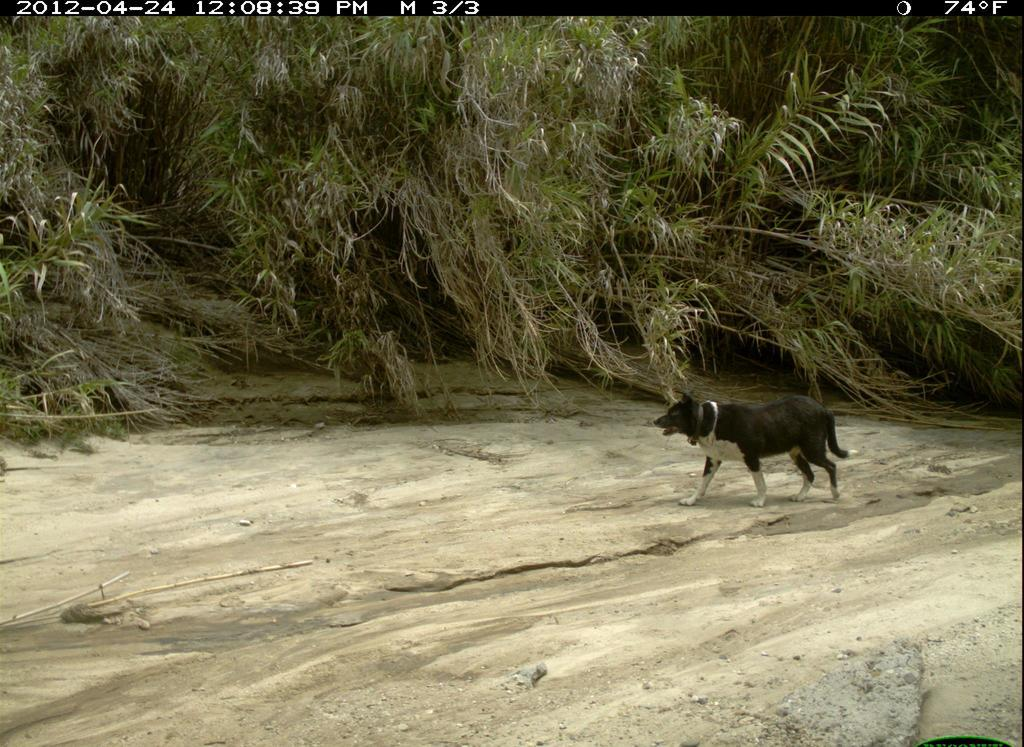dog: (654, 383, 861, 512)
